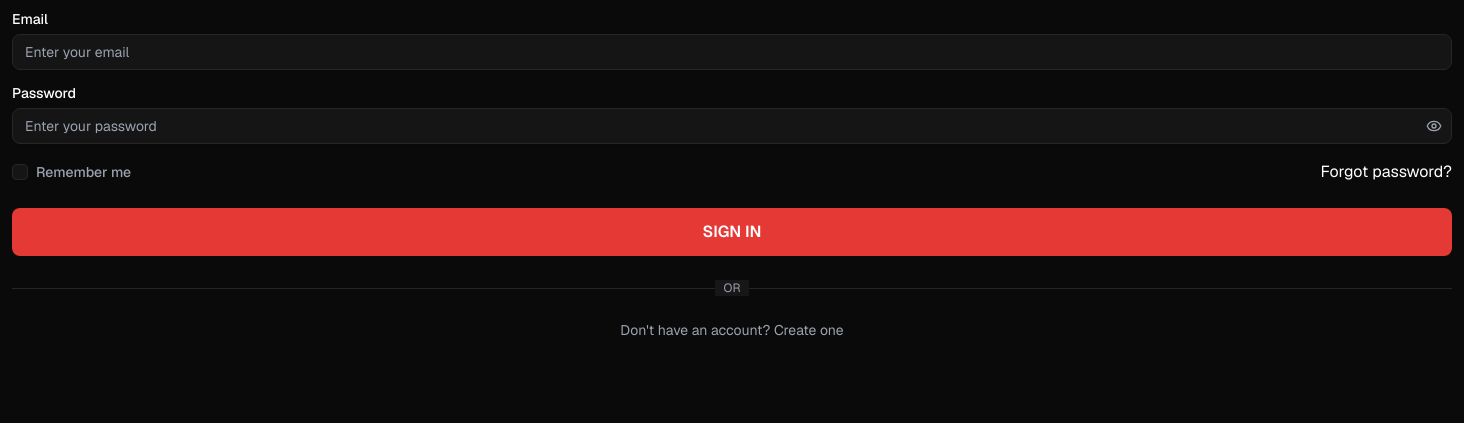
Test case: LoginForm › error handling › shows account locked message for 423 response
Type "test@test.com" into the field labelled "Email".
click(732, 52); type("test@test.com")  # box [12,34,1452,70]
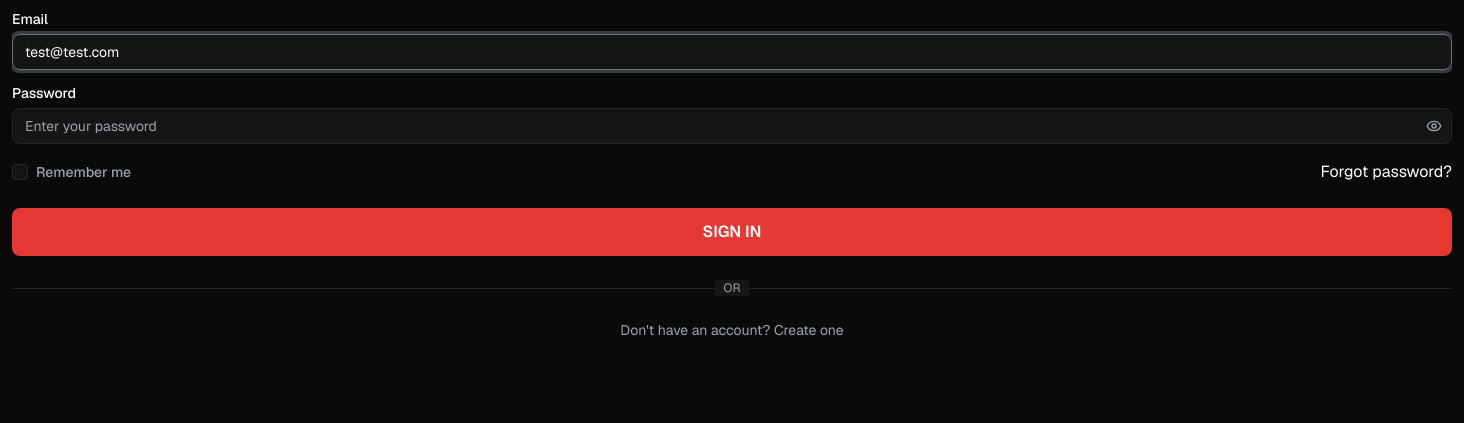
Type "wrong" into the password field labelled "Password".
click(732, 126); type("wrong")  # box [12,108,1452,144]
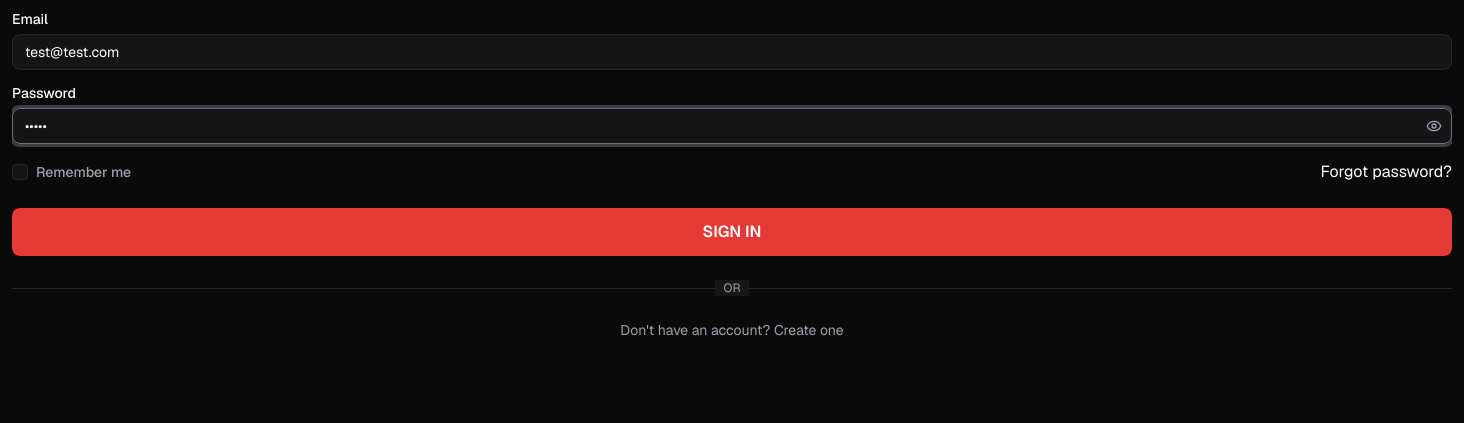
Click the button "SIGN IN".
click(732, 232)  # box [12,208,1452,256]
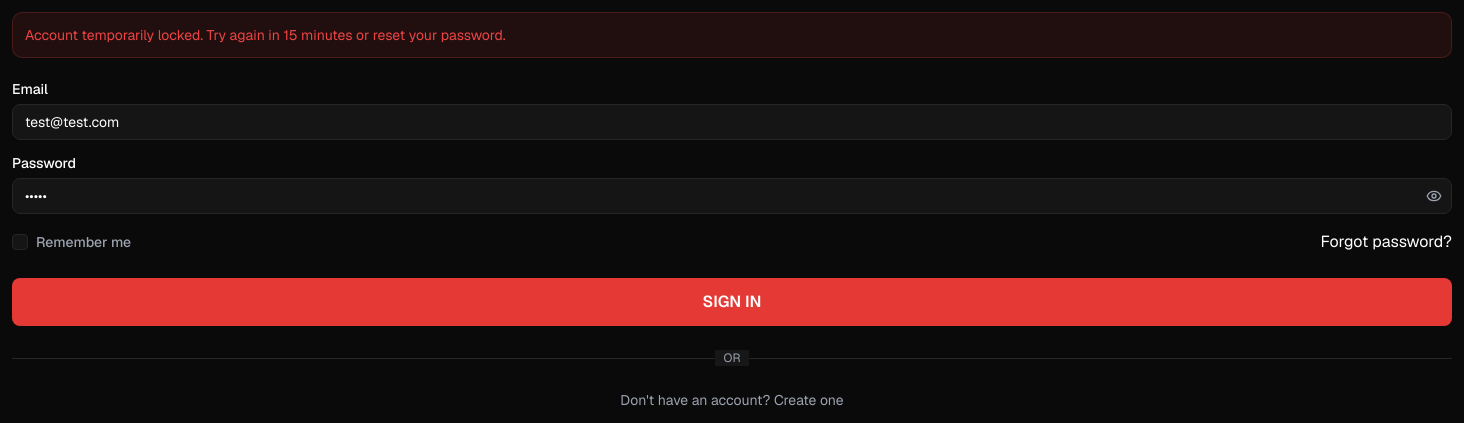
Result: the text "Account temporarily locked" is shown at [25,26,506,44]
